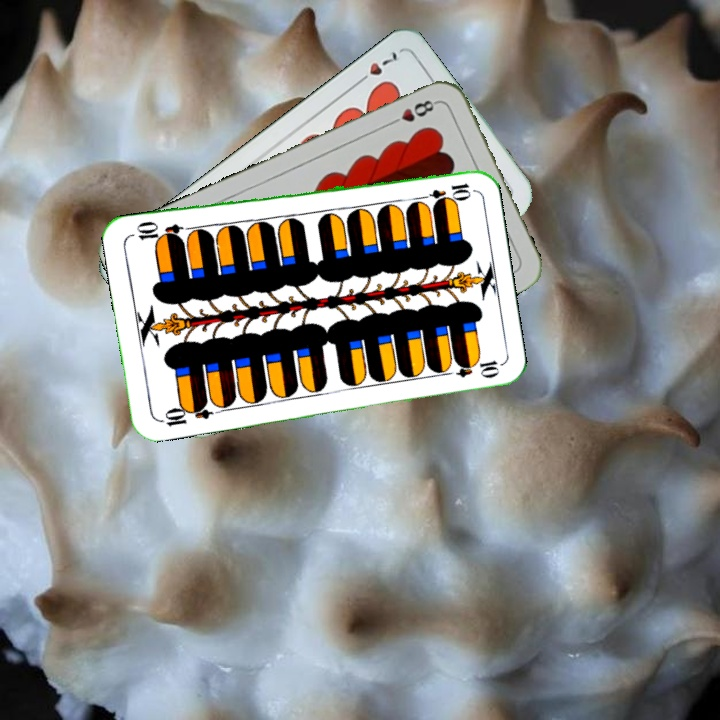E10: (155, 398, 214, 429), (414, 179, 474, 204)
H7: (351, 47, 400, 88)
H8: (385, 95, 440, 129)
